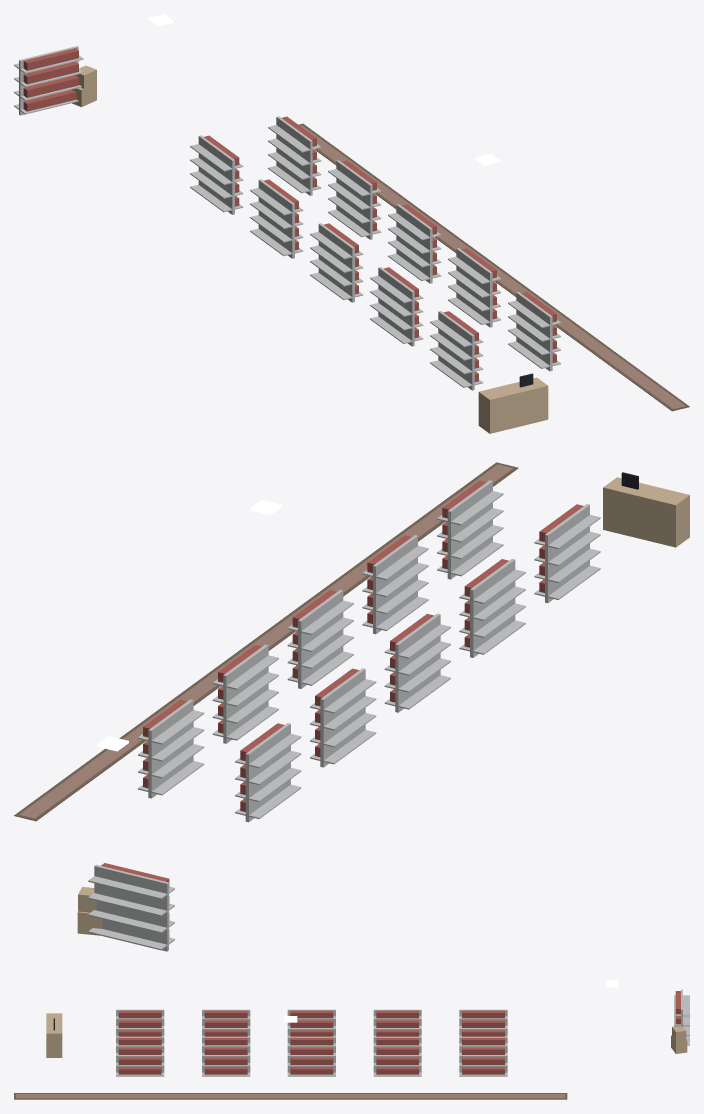
The model's file is fine-s0.glb.
The picture shows the model from 3 angles, top to bottom: view 1: azimuth 30°, elevation 25°; view 2: azimuth 150°, elevation 25°; view 3: azimuth 270°, elevation 25°; orthographic projection. The views are drawn at different scales.
Visible parts, largest first — view 1: soft-s0, shelving.000, shop-counter.000, shelf.000, shelf.006, shelf.001, shelf.004, shelf.002, shelf.007, shelf.005, shelf.003, shelf.008 (+2 smaller); view 2: soft-s0, shelving.000, shop-counter.000, shelf.003, shelf.007, shelf.000, shelf.009, shelf.001, shelf.002, shelf.004, shelf.008, shelf.005 (+2 smaller); view 3: soft-s0, shelf.005, shelf.006, shelf.007, shelf.008, shelf.009, shelf.000, shelf.001, shelf.003, shelf.004, shelf.002, shop-counter.000 (+2 smaller).
Boxes of the visible parts, x1,y1,x2,y2 form: soft-s0: (298,123,689,411); shelving.000: (14,46,83,115); shop-counter.000: (478,373,548,433); shelf.000: (190,135,243,214); shelf.006: (328,160,381,239); shelf.001: (250,179,303,258); shelf.004: (430,311,483,390); shelf.002: (310,223,363,302); shelf.007: (388,204,441,283); shelf.005: (268,116,321,195); shelf.003: (370,267,423,346); shelf.008: (448,248,500,327); soft-s0: (14,462,518,821); shelving.000: (88,863,174,951); shop-counter.000: (603,472,689,547); shelf.003: (459,558,525,657); shelf.007: (287,590,353,688); shelf.000: (235,723,301,822); shelf.009: (437,480,503,579); shelf.001: (310,668,376,767); shelf.002: (384,613,450,712); shelf.004: (534,504,600,603); shelf.008: (362,535,428,634); shelf.005: (138,699,204,798); soft-s0: (14,1093,567,1099); shelf.005: (459,1036,507,1076); shelf.006: (373,1036,421,1076); shelf.007: (287,1036,335,1076); shelf.008: (202,1036,250,1076); shelf.009: (116,1036,164,1076); shelf.000: (459,1009,507,1036); shelf.001: (373,1009,421,1036); shelf.003: (202,1009,250,1036); shelf.004: (116,1009,164,1036); shelf.002: (287,1009,335,1036); shop-counter.000: (46,1013,62,1057).
Bounding box in the file's own units: 6.27 × 3.2 × 25.21.
